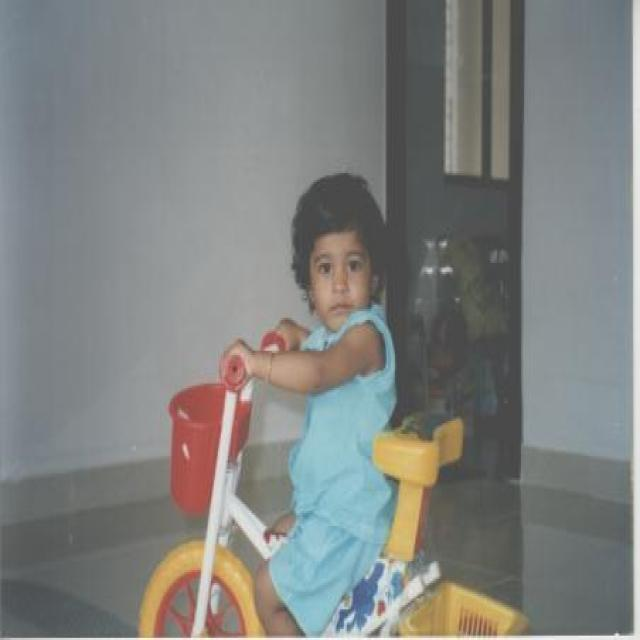person: (217, 172, 401, 639)
